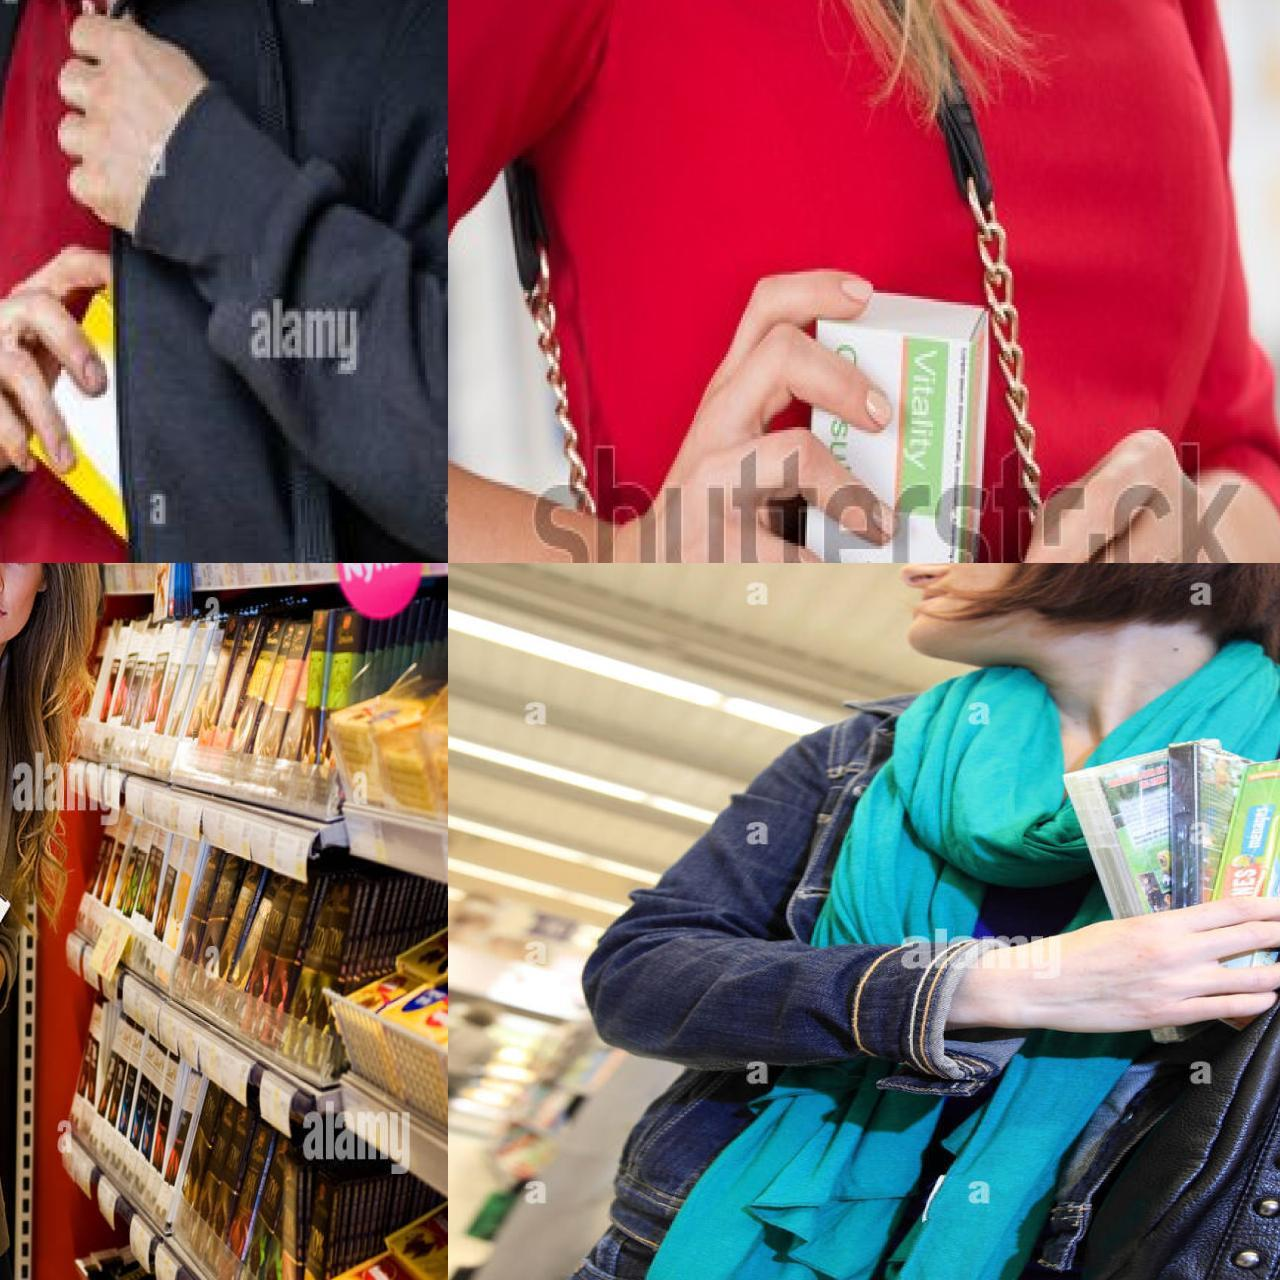Shoplifting: (448, 563, 1280, 1182), (523, 73, 1259, 563), (0, 0, 448, 563), (0, 563, 188, 1280)
